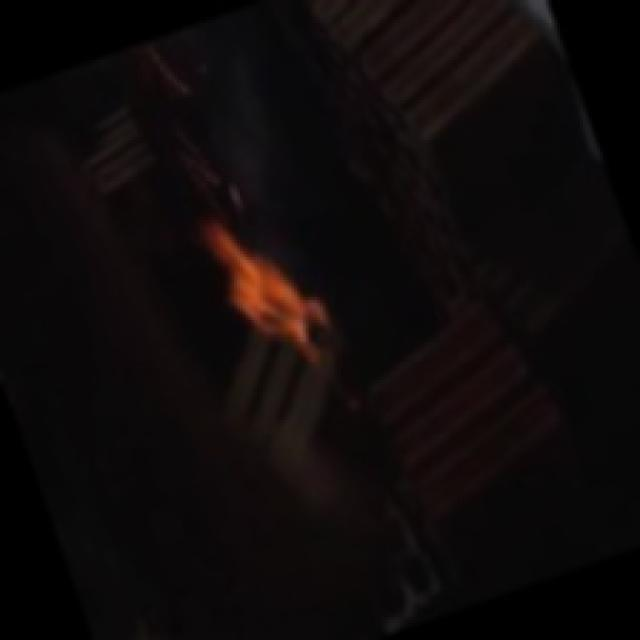fire: (142, 103, 364, 408)
